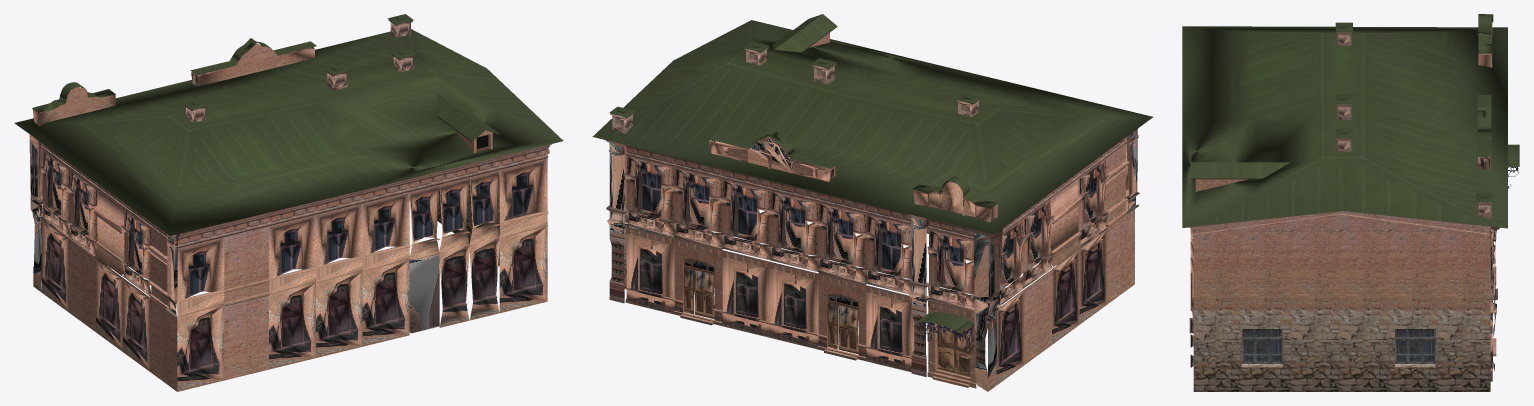
Rendered from kruglov-house-y90.far.glb.
3 renders of one model, left to right at view 1: azimuth 30°, elevation 25°; view 2: azimuth 150°, elevation 25°; view 3: azimuth 270°, elevation 25°, orthographic. The views are drawn at different scales.
Visible parts, largest first — view 1: Plane.018, ulicaokno.201, ulicaokno.173, ulicaokno.149, ulicaokno.150, ulicaokno.172, ulicaokno.198, ulicaokno.199, ulicaokno.200, ulicaokno.175, Cube.022, ulicaokno.170 (+23 smaller); view 2: Plane.018, kolonna.023, ulicaokno.153, ulicaokno.152, ulicaokno.144, ulicaokno.165, ulicaokno.167, ulicaokno.168, ulicaokno.166, ulicaokno.130, ulicaokno.154, ulicaokno.169 (+37 smaller); view 3: Plane.018, wall pattern.004, Cube.029, Cube.022, Cube.023, Cube.019, Cube.028, Cube.017, Cube.021, kolonna.019.
Boxes of the visible parts, left/top/right/bottom form: Plane.018: left=14, top=29, right=563, bottom=235; ulicaokno.201: left=499, top=158, right=548, bottom=312; ulicaokno.173: left=362, top=192, right=410, bottom=346; ulicaokno.149: left=177, top=237, right=225, bottom=391; ulicaokno.150: left=269, top=215, right=316, bottom=369; ulicaokno.172: left=316, top=203, right=363, bottom=357; ulicaokno.198: left=224, top=226, right=270, bottom=380; ulicaokno.199: left=409, top=184, right=440, bottom=333; ulicaokno.200: left=439, top=177, right=470, bottom=327; ulicaokno.175: left=469, top=170, right=500, bottom=320; Cube.022: left=190, top=38, right=316, bottom=85; ulicaokno.170: left=123, top=278, right=150, bottom=371; Plane.018: left=592, top=20, right=1152, bottom=234; kolonna.023: left=967, top=228, right=1002, bottom=391; ulicaokno.153: left=769, top=264, right=818, bottom=349; ulicaokno.152: left=721, top=253, right=770, bottom=337; ulicaokno.144: left=625, top=229, right=674, bottom=314; ulicaokno.165: left=673, top=167, right=722, bottom=248; ulicaokno.167: left=768, top=191, right=818, bottom=271; ulicaokno.168: left=817, top=202, right=866, bottom=283; ulicaokno.166: left=721, top=179, right=770, bottom=259; ulicaokno.130: left=625, top=156, right=674, bottom=236; ulicaokno.154: left=865, top=288, right=914, bottom=372; ulicaokno.169: left=864, top=214, right=911, bottom=294; Plane.018: left=1182, top=26, right=1507, bottom=228; wall pattern.004: left=1193, top=211, right=1490, bottom=391; Cube.029: left=1190, top=162, right=1290, bottom=191; Cube.022: left=1477, top=94, right=1491, bottom=169; Cube.023: left=1478, top=14, right=1493, bottom=67; Cube.019: left=1335, top=94, right=1352, bottom=119; Cube.028: left=1476, top=193, right=1493, bottom=218; Cube.017: left=1335, top=128, right=1352, bottom=151; Cube.021: left=1335, top=22, right=1352, bottom=45; kolonna.019: left=1490, top=226, right=1499, bottom=371.
Bounding box in the file's own units: 18.1 × 9.42 × 12.86.
2 materials, 2 textured.
